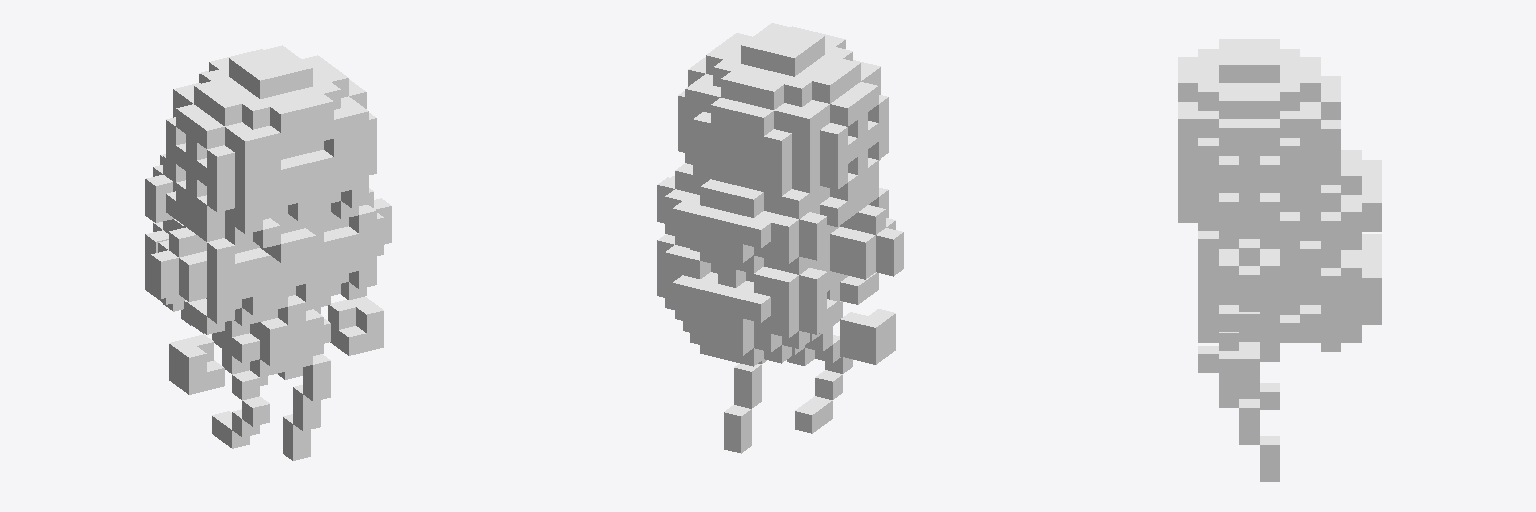
The model's file is player_walk-02.obj.
3 renders of one model, left to right at view 1: azimuth 30°, elevation 25°; view 2: azimuth 150°, elevation 25°; view 3: azimuth 270°, elevation 25°, orthographic.
Size of the model in its own units: 13 by 22 by 10.